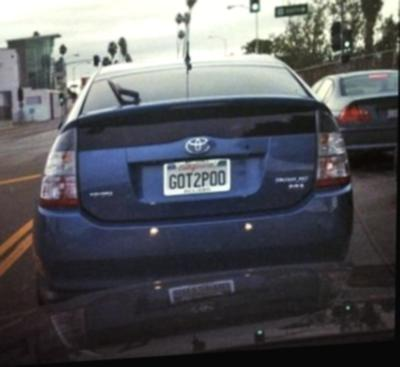License_Plate: (162, 158, 231, 195)
